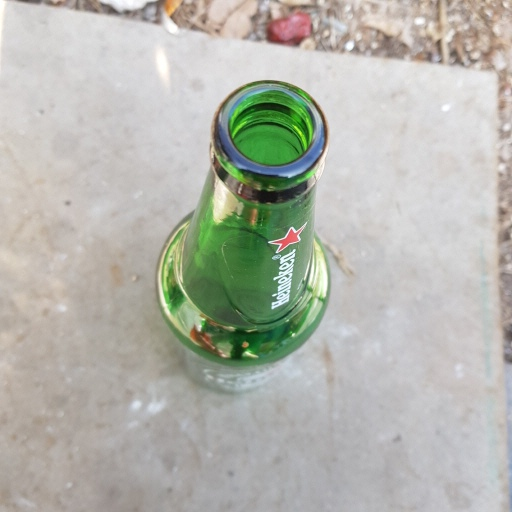Glass_1: (146, 77, 331, 398)
